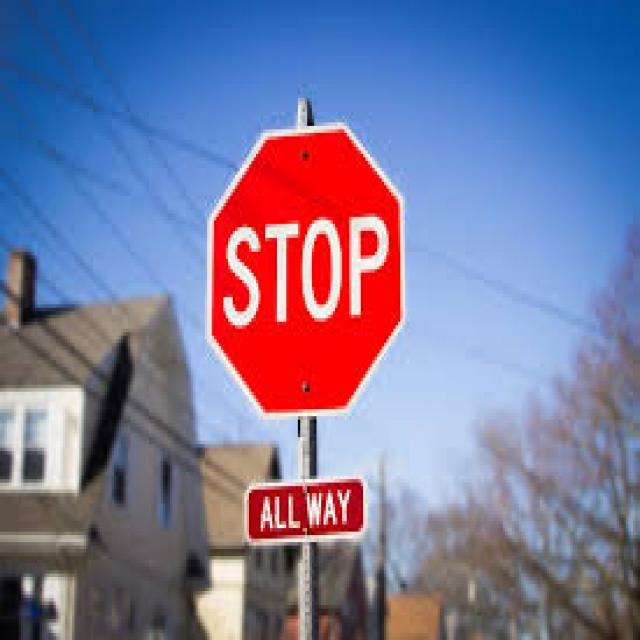stop-sign: (206, 92, 428, 439)
